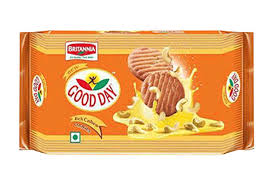gooday-medium: (25, 32, 246, 145)
